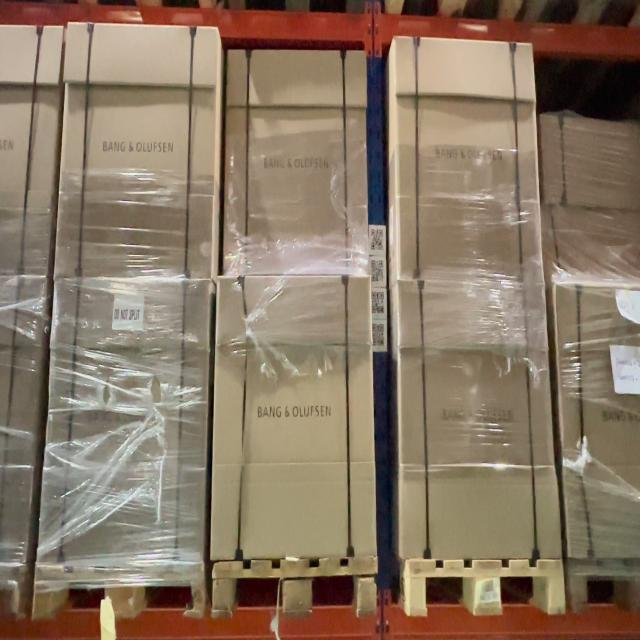box: (36, 278, 212, 563), (206, 275, 376, 563), (398, 278, 561, 564), (52, 23, 222, 281), (388, 34, 541, 282), (219, 51, 367, 281)
